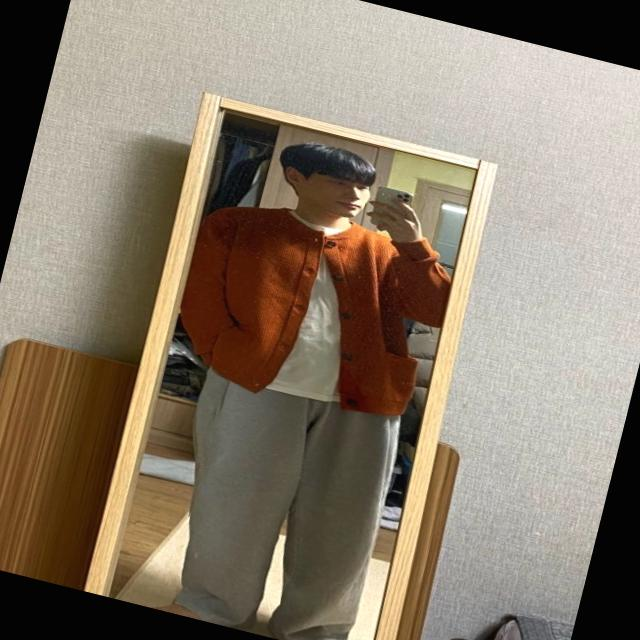cardigan: (167, 186, 460, 432)
trainingpants: (148, 357, 407, 640)
